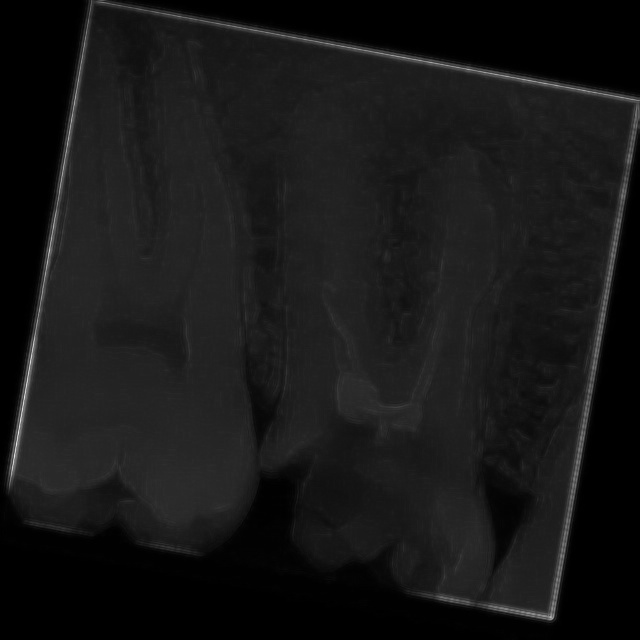Class 2- incomplete endodontic treatment: (184, 59, 588, 598)
cavity: (4, 16, 336, 560)
